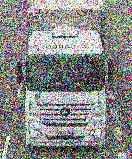truck: (16, 0, 114, 148)
